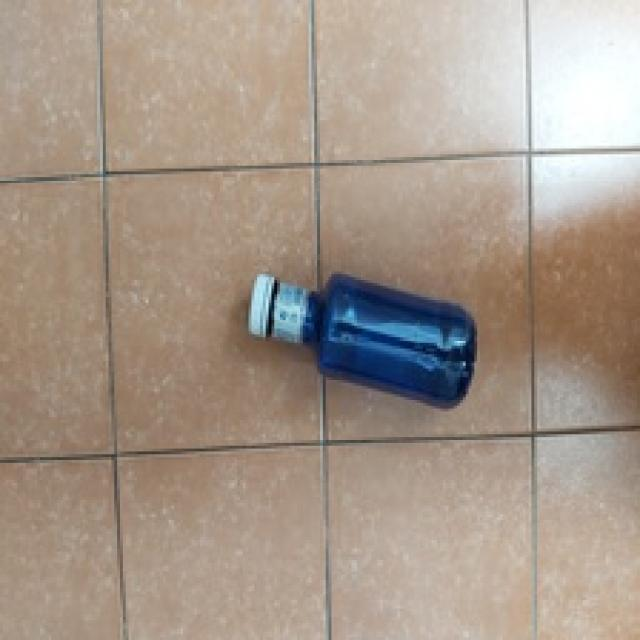Plastic: (248, 272, 479, 410)
